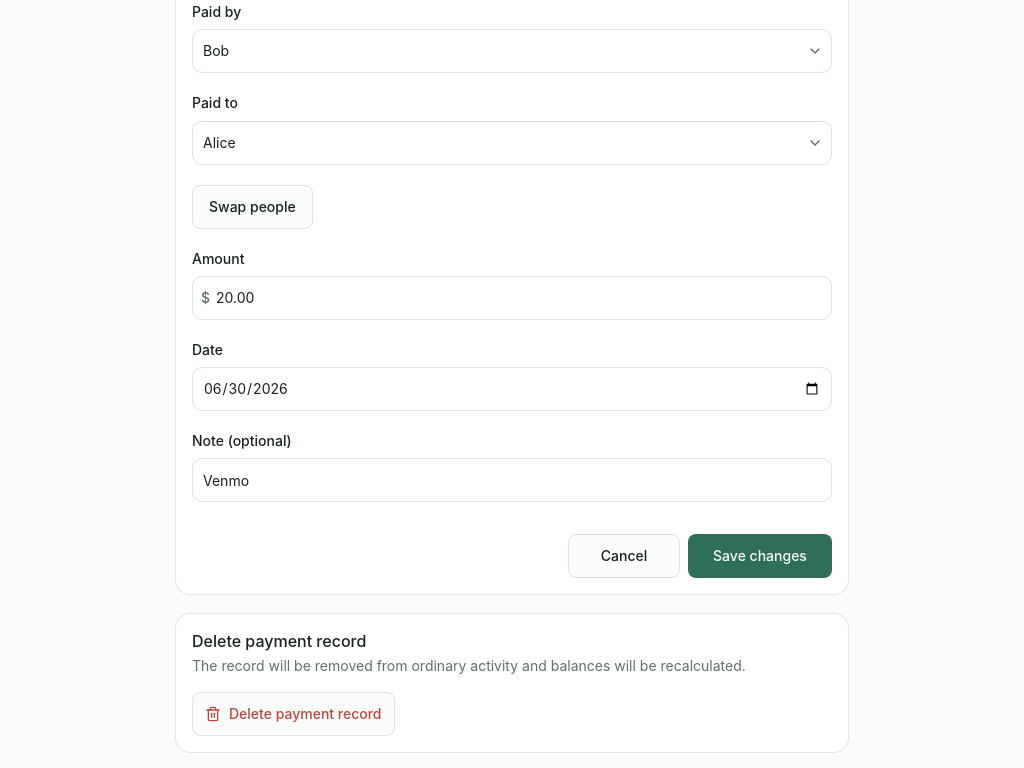
Test: edit payment route › classifies DELETE 404 as a local missing record when group access remains ready
The image size is (1024, 768).
(page scrolled)
Expected: the field labelled "Amount" is shown, [210,276,831,320]
Click the button "Delete payment record" at (293, 714), box [192,692,394,736]
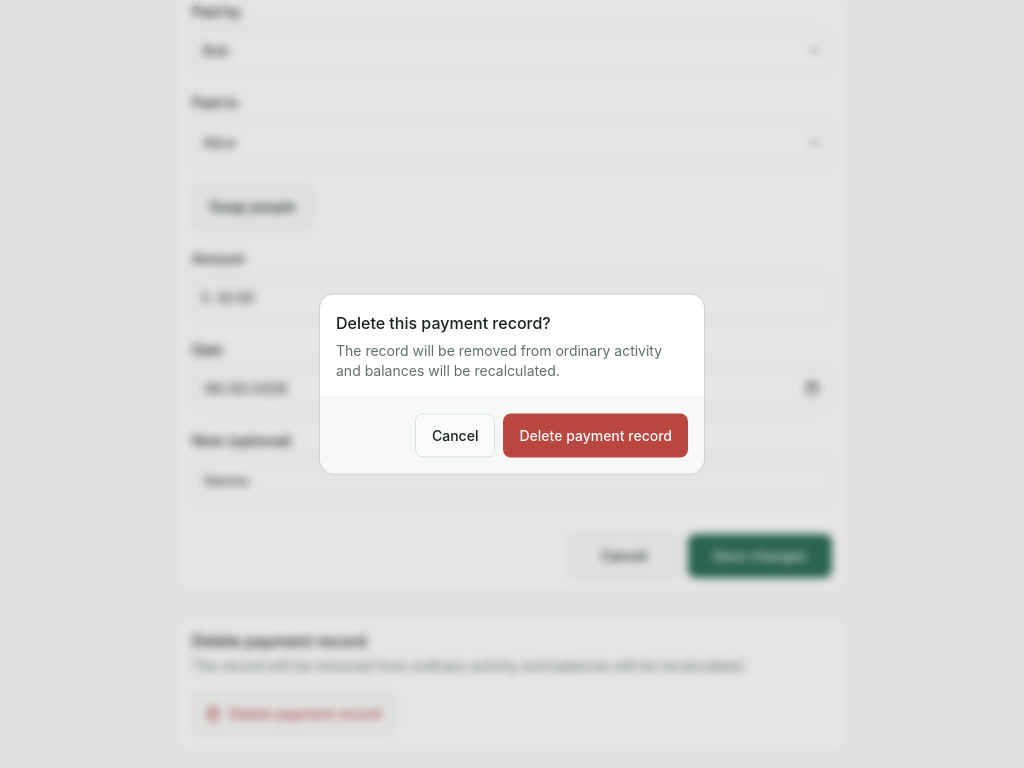
Click the button "Delete payment record" at (596, 436), box [504,414,688,458]
(page scrolled)
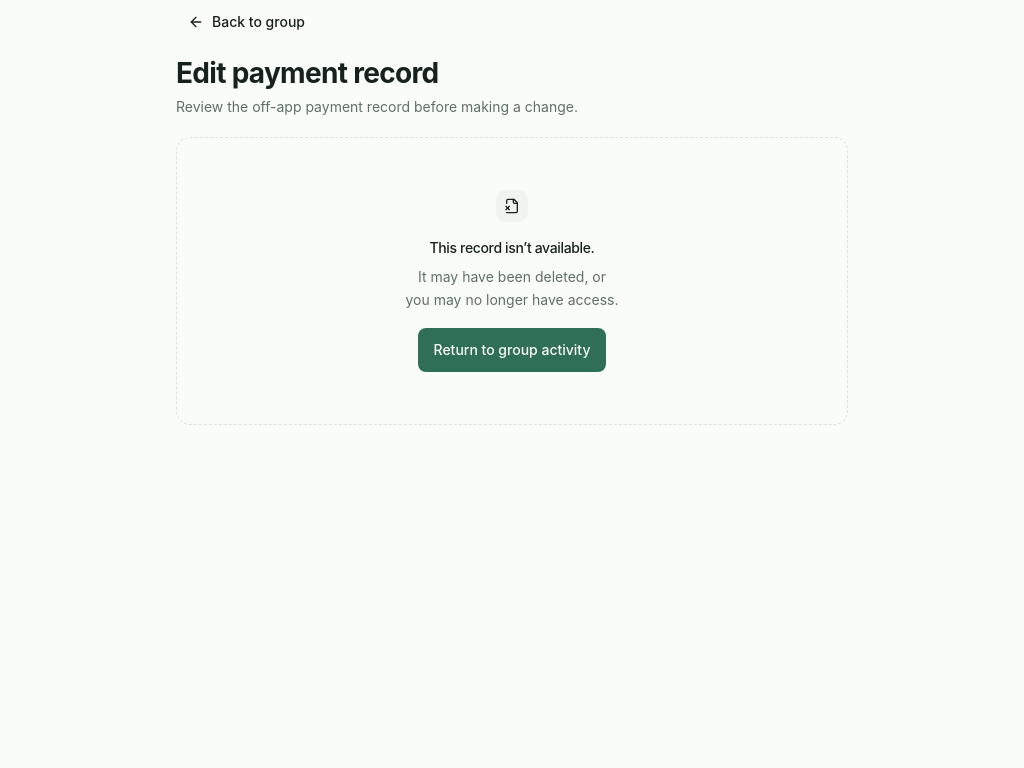
Expected: the text "This record isn’t available." is shown, [430,238,594,258]
Expected: the label labelled "Amount" is gone
